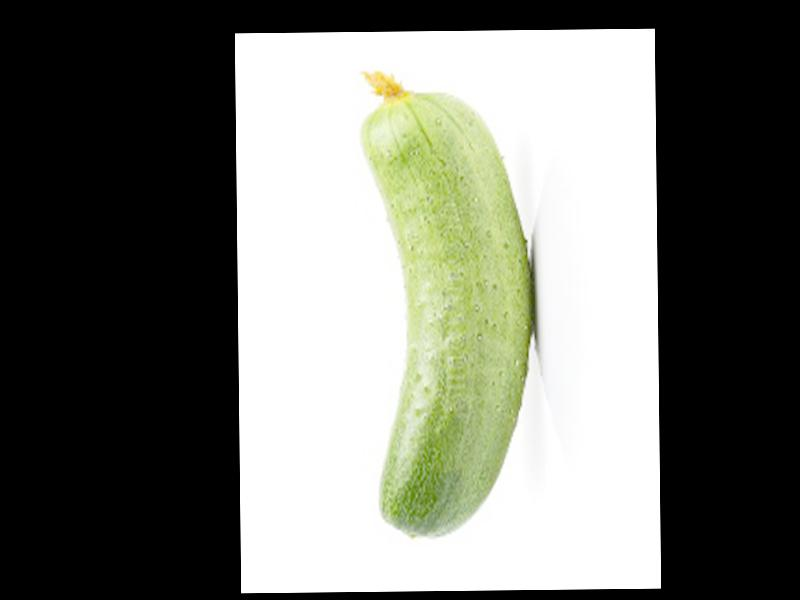Cucumber: (357, 64, 536, 540)
